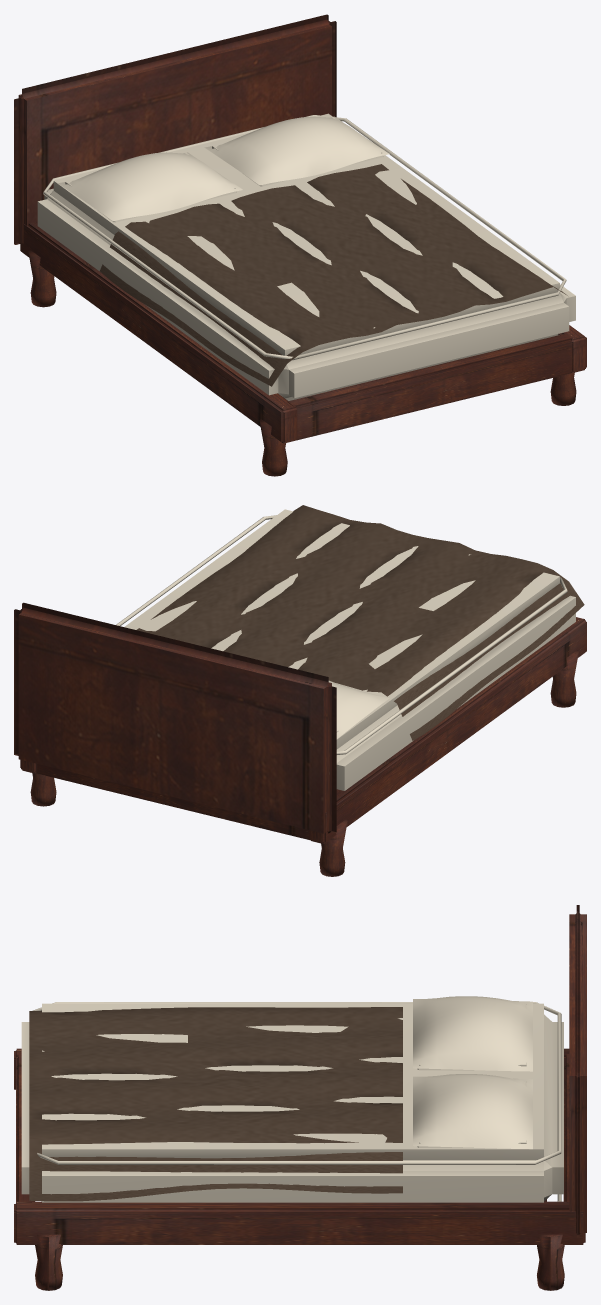
File: apartment-bed.glb
3 views of the same model, one above another, from view 1: azimuth 30°, elevation 25°; view 2: azimuth 150°, elevation 25°; view 3: azimuth 270°, elevation 25° (orthographic). The views are drawn at different scales.
Parts seen in each view (by area): view 1: Frame; view 2: Frame; view 3: Frame.
Boxes of the visible parts, x1,y1,x2,y2 form: Frame: [14, 14, 586, 476]; Frame: [14, 505, 586, 876]; Frame: [14, 905, 586, 1290].
Bounding box in the file's own units: 1.38 × 0.844 × 1.96.
3 materials, 2 textured.
